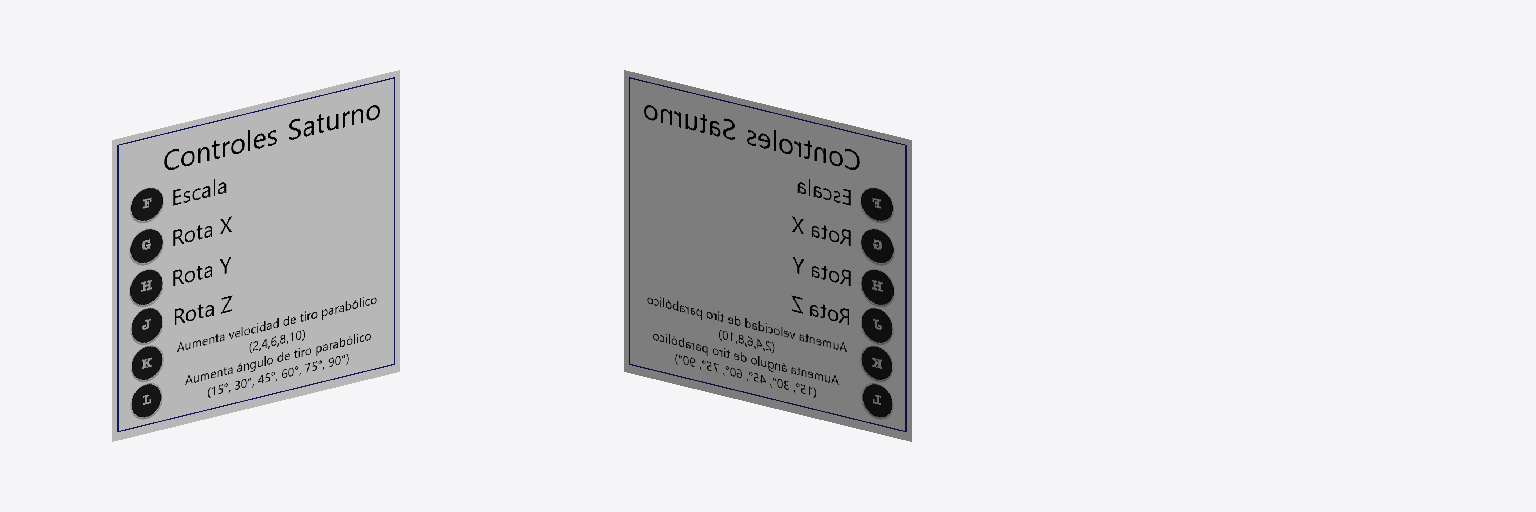
3 renders of one model, left to right at view 1: azimuth 30°, elevation 25°; view 2: azimuth 150°, elevation 25°; view 3: azimuth 270°, elevation 25°, orthographic.
Parts seen in each view (by area): view 1: pPlane1; view 2: pPlane1; view 3: none.
Part boxes in pixels (left/top/right/bottom): pPlane1: left=112, top=70, right=399, bottom=441; pPlane1: left=624, top=70, right=911, bottom=441.
Size of the model in its own units: 2.5 by 2.5 by 0.
Materials: 1 (1 with a texture image).